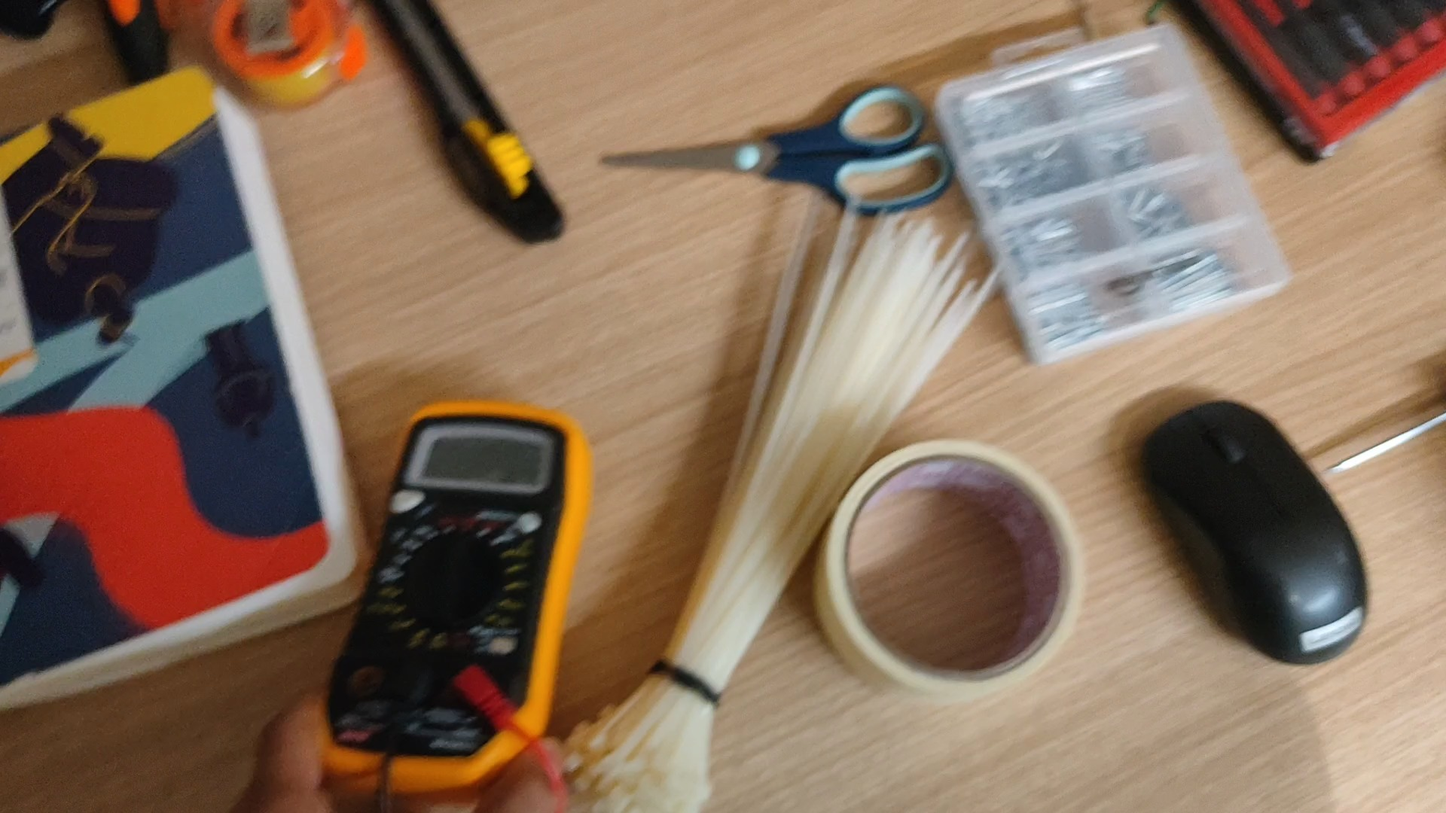multimeter: (321, 402, 590, 809)
